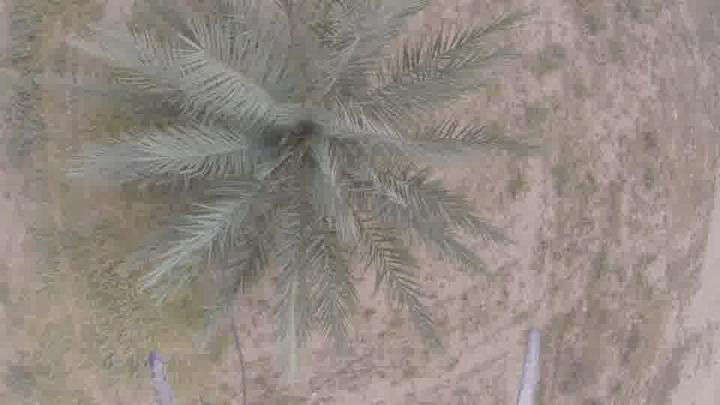Date-Palm-Crown: (156, 19, 434, 259)
